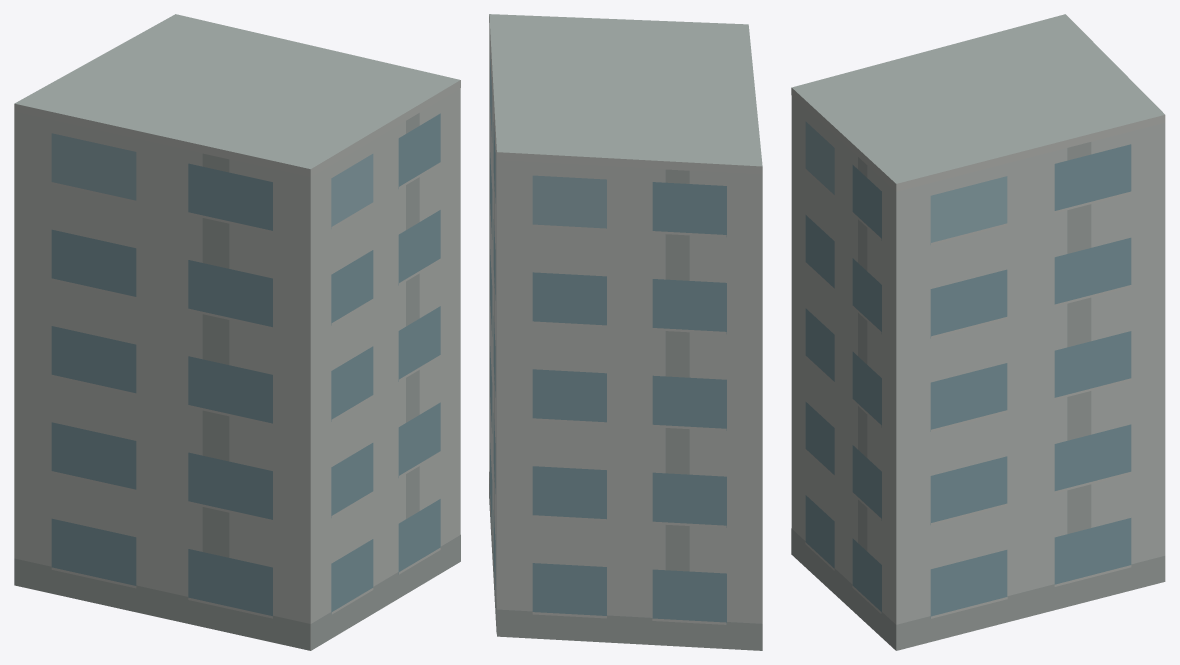
File: survey-upis-33037677.glb
3 renders of one model, left to right at view 1: azimuth 30°, elevation 25°; view 2: azimuth 150°, elevation 25°; view 3: azimuth 270°, elevation 25°, orthographic. The views are drawn at different scales.
Parts seen in each view (by area): view 1: survey-upis-33037677.tmp; view 2: survey-upis-33037677.tmp; view 3: survey-upis-33037677.tmp.
Part boxes in pixels (box(x1,y1,x2,y2)): survey-upis-33037677.tmp: box(14, 14, 460, 650); survey-upis-33037677.tmp: box(489, 14, 762, 650); survey-upis-33037677.tmp: box(791, 14, 1165, 650).
Bounding box in the file's own units: 11.17 × 14.3 × 10.38.
